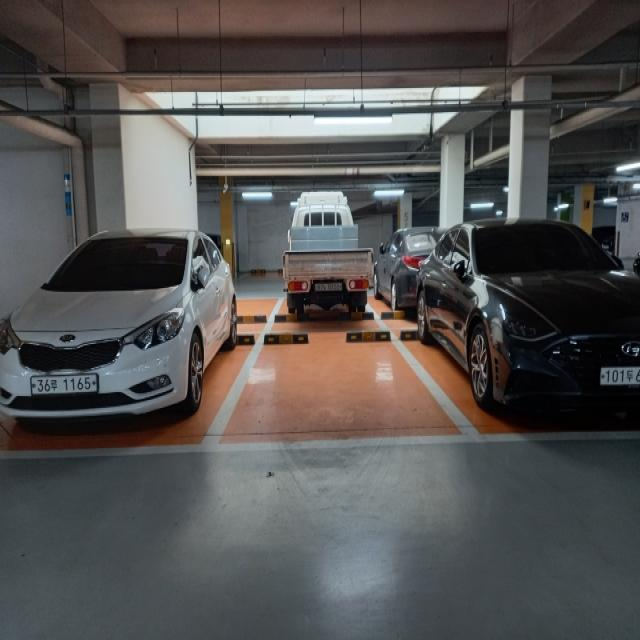empty: (211, 331, 439, 449)
occupied: (3, 220, 233, 446), (415, 213, 640, 430)
